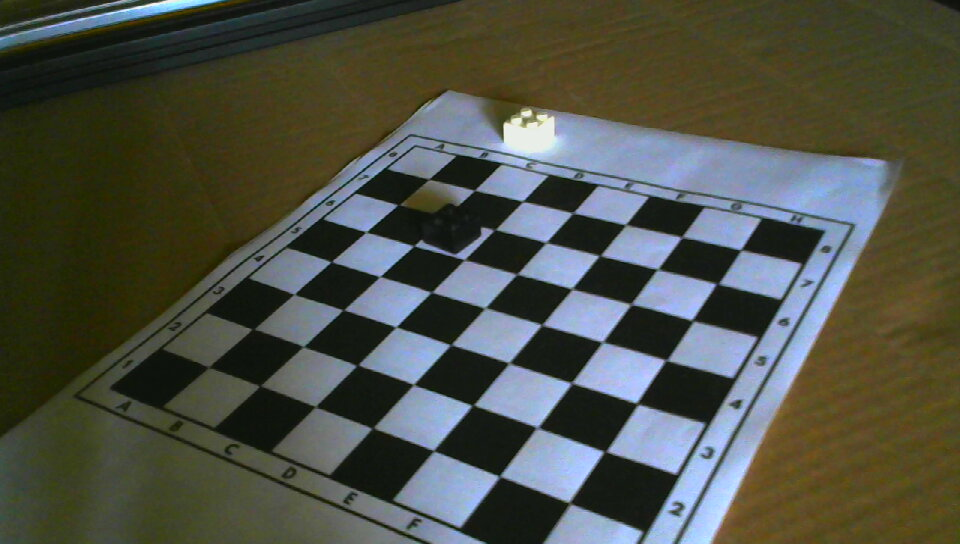bp: (423, 204, 482, 254)
wp: (504, 105, 556, 151)
